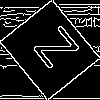Z: (24, 25, 80, 78)
